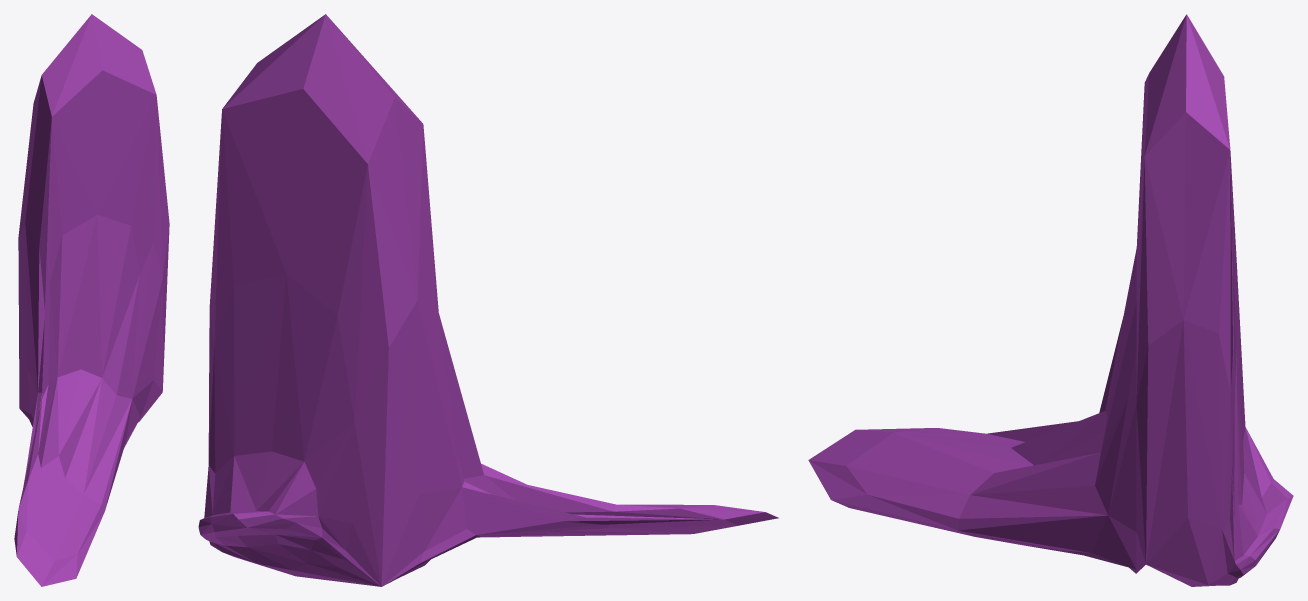
3 renders of one model, left to right at view 1: azimuth 30°, elevation 25°; view 2: azimuth 150°, elevation 25°; view 3: azimuth 270°, elevation 25°, orthographic. The views are drawn at different scales.
Visible parts, largest first — view 1: 726_Cube.2913; view 2: 726_Cube.2913; view 3: 726_Cube.2913.
Part boxes in pixels (<box>): 726_Cube.2913: <box>14,14,169,586</box>; 726_Cube.2913: <box>198,14,778,586</box>; 726_Cube.2913: <box>808,14,1293,586</box>.
Bounding box in the file's own units: 8.35 × 12.94 × 9.68.
